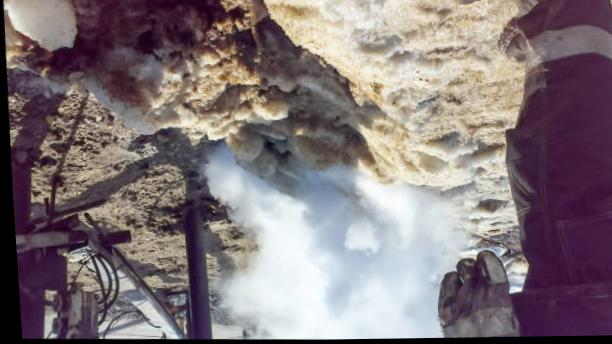leak: (196, 142, 476, 338)
